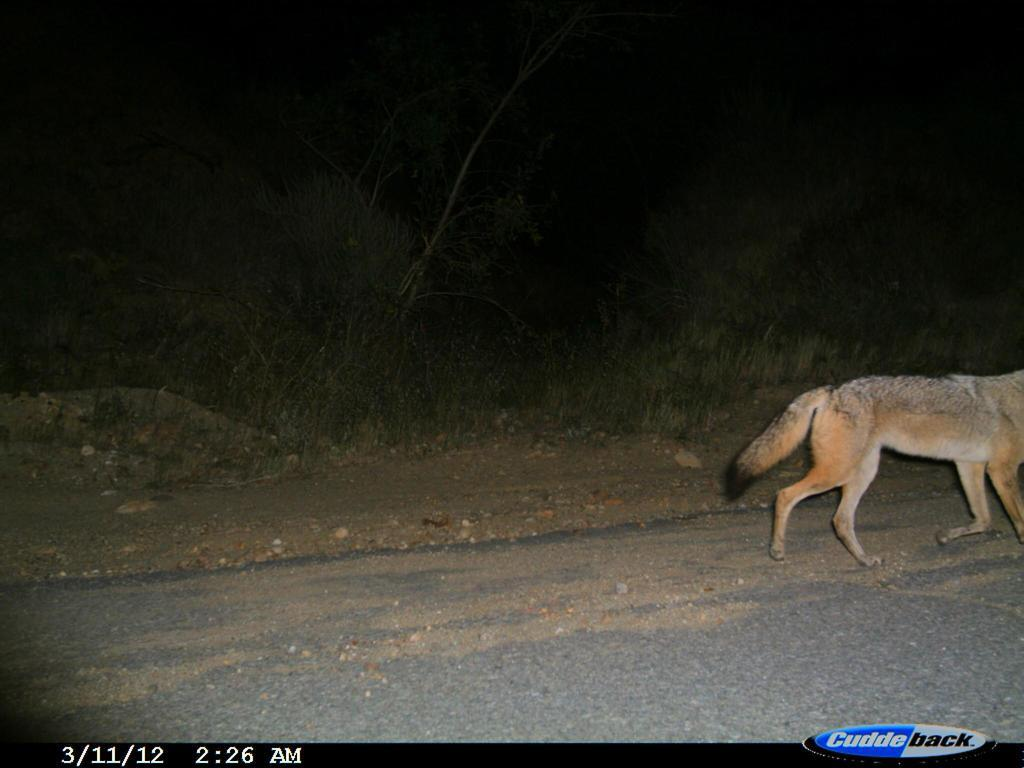coyote: (721, 363, 1019, 566)
